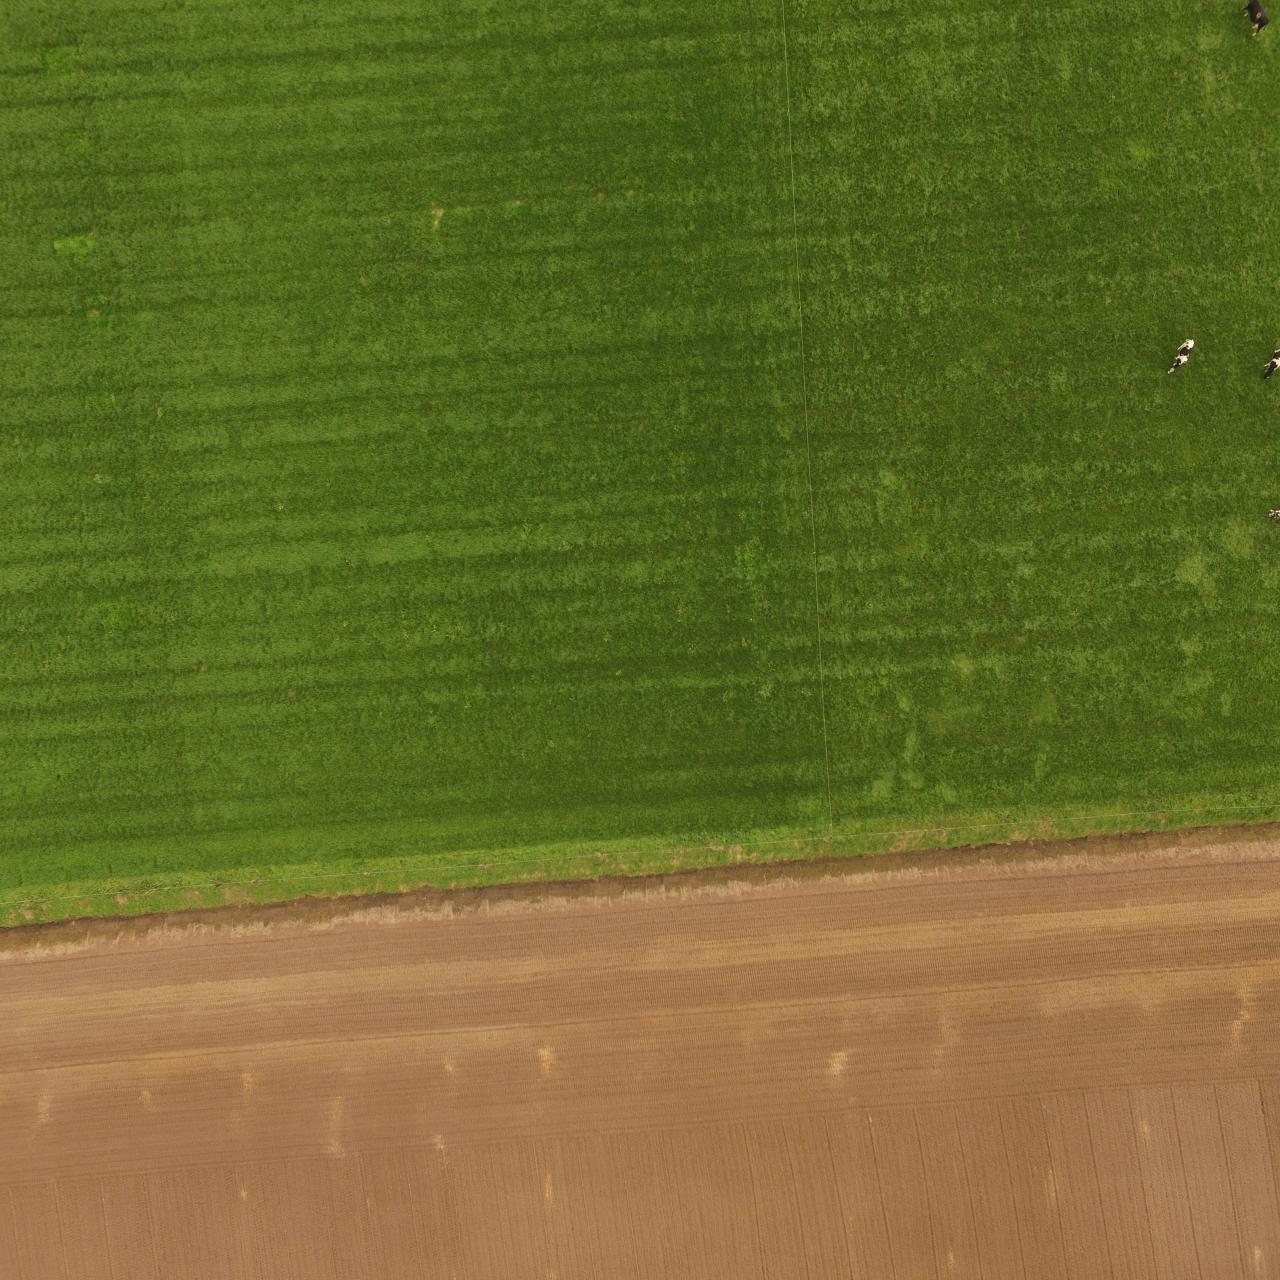cow: (1164, 334, 1198, 377)
